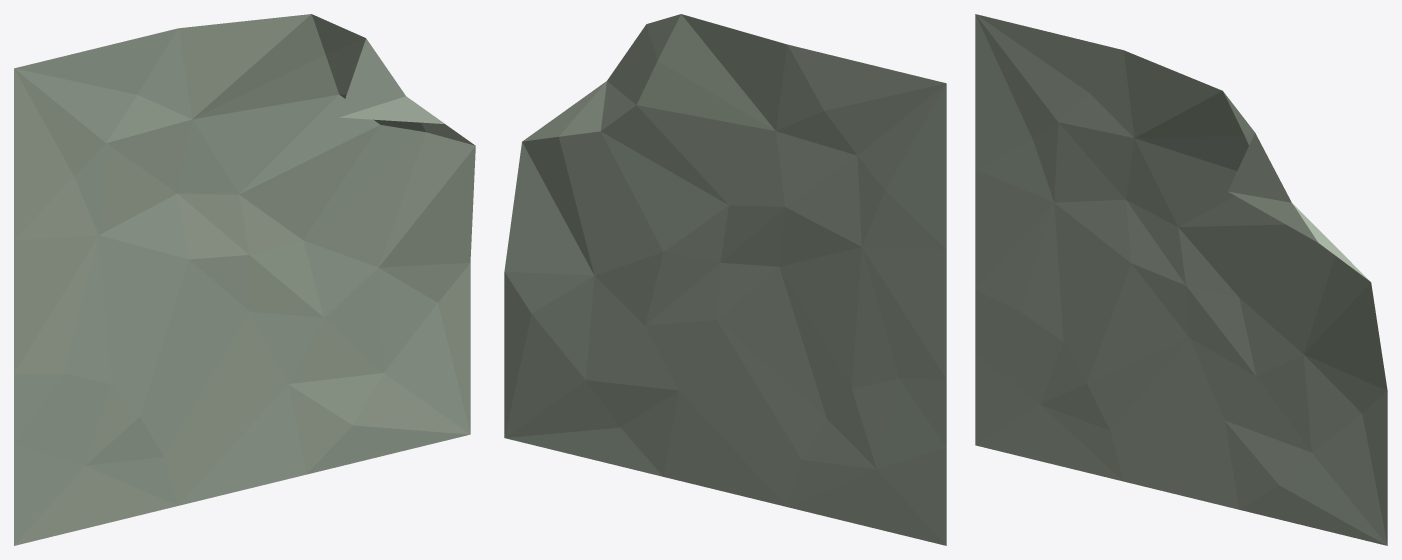
The model's file is Wallpapper_01.fbx.
The picture shows the model from 3 angles, left to right: view 1: azimuth 30°, elevation 25°; view 2: azimuth 150°, elevation 25°; view 3: azimuth 330°, elevation 25°; orthographic projection. The views are drawn at different scales.
Visible parts, largest first — view 1: Wallpapper_01; view 2: Wallpapper_01; view 3: Wallpapper_01.
Boxes of the visible parts, x1,y1,x2,y2 form: Wallpapper_01: (14,14,475,545); Wallpapper_01: (504,14,946,545); Wallpapper_01: (975,14,1387,545).
Bounding box in the file's own units: 100 × 100 × 10.53.
1 material, 1 textured.
